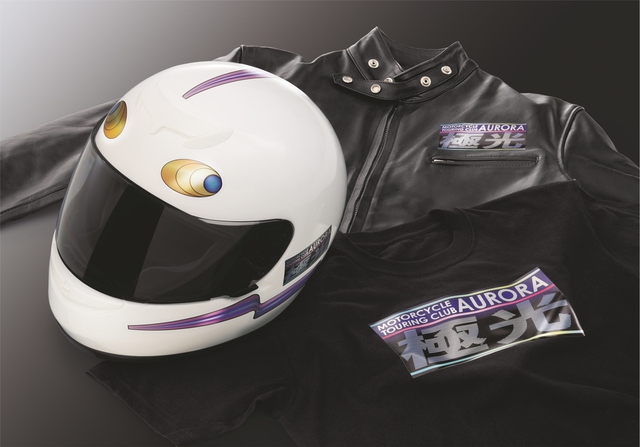helmet: (42, 52, 355, 358)
